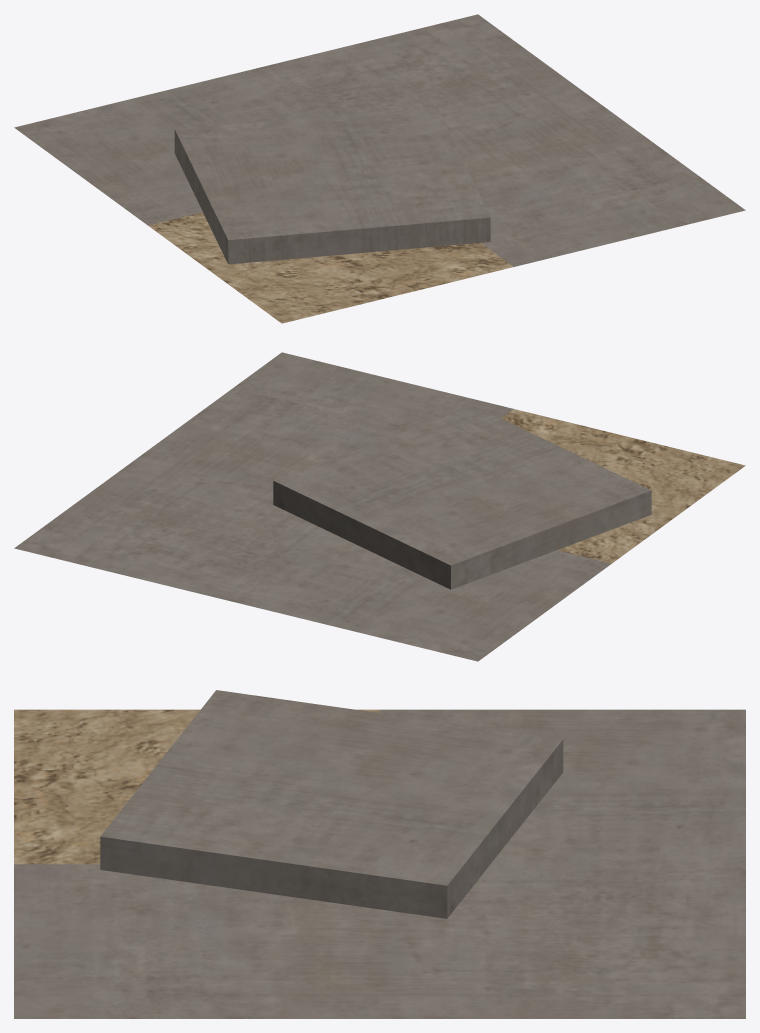
File: roadDirt_damaged.dae
The picture shows the model from 3 angles, top to bottom: view 1: azimuth 30°, elevation 25°; view 2: azimuth 150°, elevation 25°; view 3: azimuth 270°, elevation 25°; orthographic projection. The views are drawn at different scales.
Parts seen in each view (by area): view 1: roadDirt_damaged; view 2: roadDirt_damaged; view 3: roadDirt_damaged.
Part boxes in pixels (box(x1,y1,x2,y2)): roadDirt_damaged: box(14, 14, 745, 323); roadDirt_damaged: box(14, 352, 745, 661); roadDirt_damaged: box(14, 690, 745, 1018).
Size of the model in its own units: 1 by 0.05 by 1.
